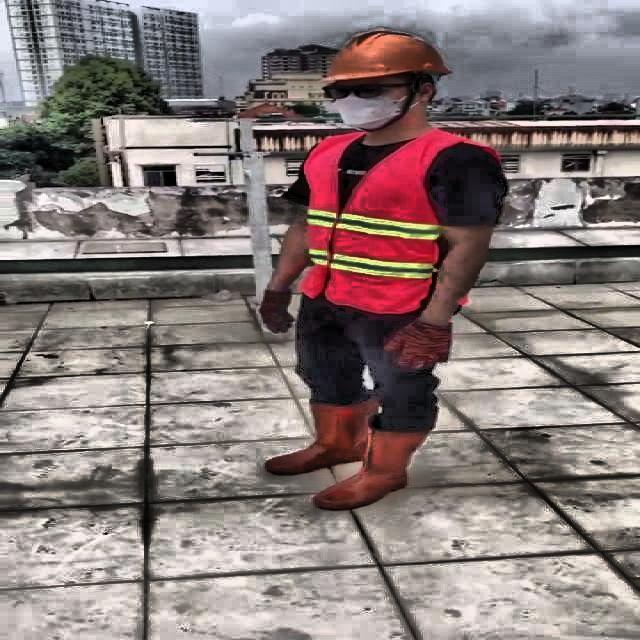safety_helmet: (316, 28, 453, 82)
safety_jacket: (298, 132, 482, 311)
